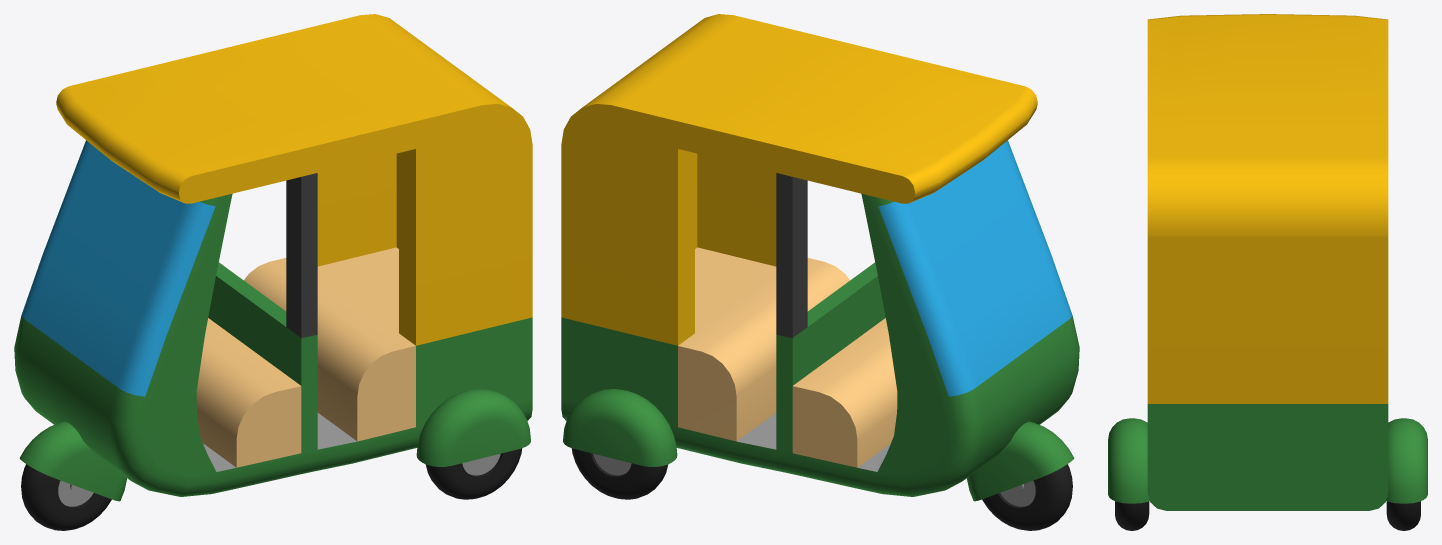
File: auto_rickshaw.glb
3 views of the same model, side by side, from view 1: azimuth 30°, elevation 25°; view 2: azimuth 150°, elevation 25°; view 3: azimuth 270°, elevation 25° (orthographic). The views are drawn at different scales.
Parts seen in each view (by area): view 1: Cube.739; view 2: Cube.739; view 3: Cube.739.
Boxes of the visible parts, x1,y1,x2,y2 form: Cube.739: (14,14,532,530); Cube.739: (561,14,1079,530); Cube.739: (1108,14,1427,530).
Bounding box in the file's own units: 2.19 × 1.79 × 1.38.
1 material, 1 textured.
